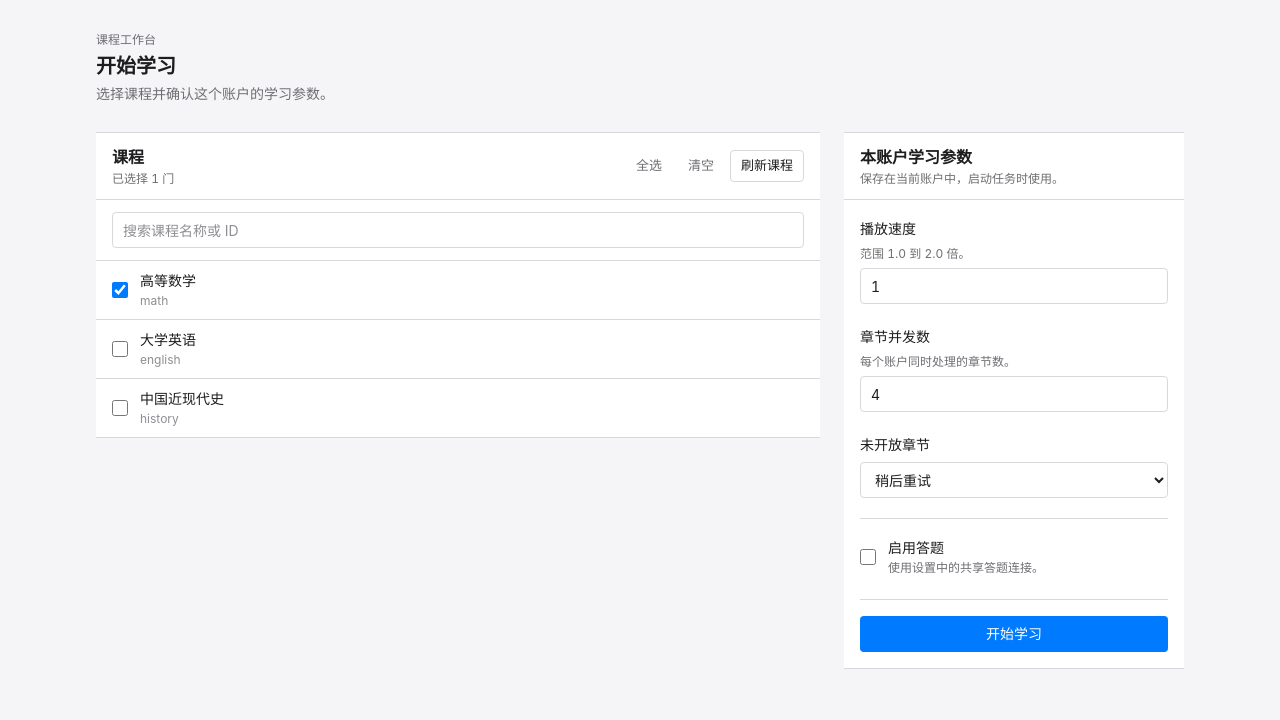
Scenario: shows start conflict without losing selection
Click the button "开始学习": (1014, 634) [860, 616, 1168, 652]
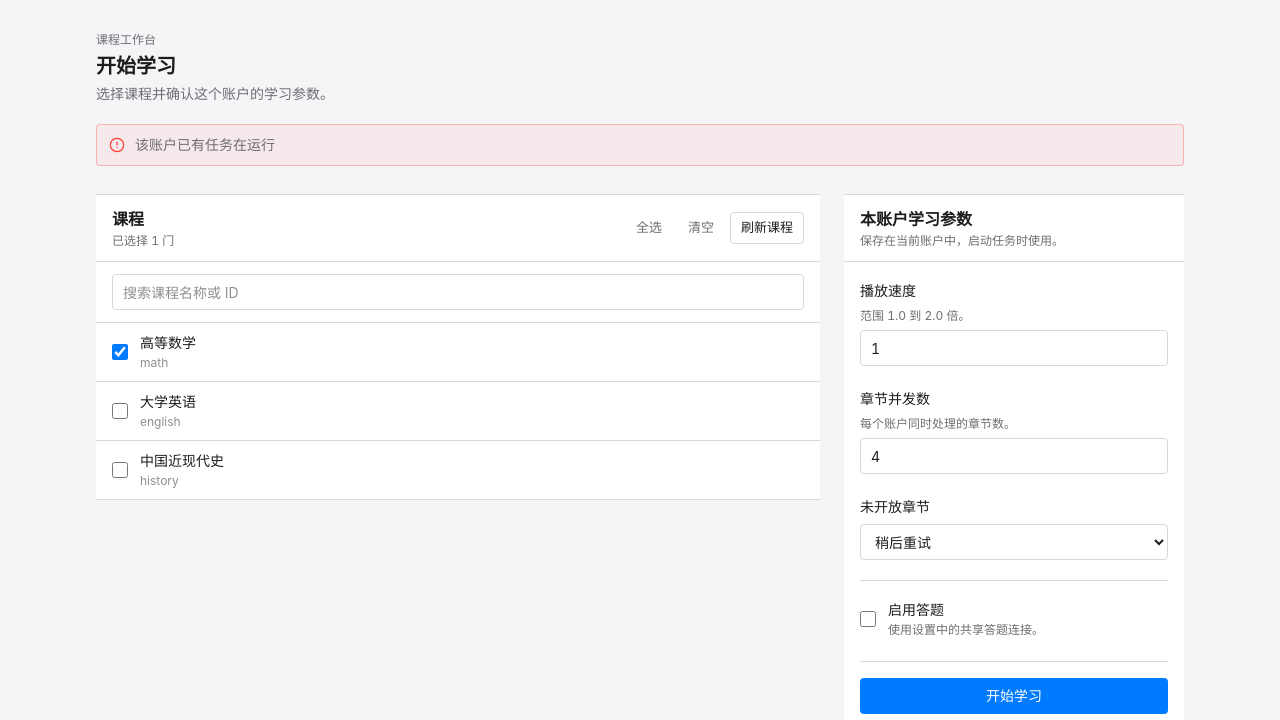
Expected: the checkbox labelled "高等数学" is checked, [112, 344, 128, 360]
Result: the text "该账户已有任务在运行" is shown at [135, 136, 275, 153]
